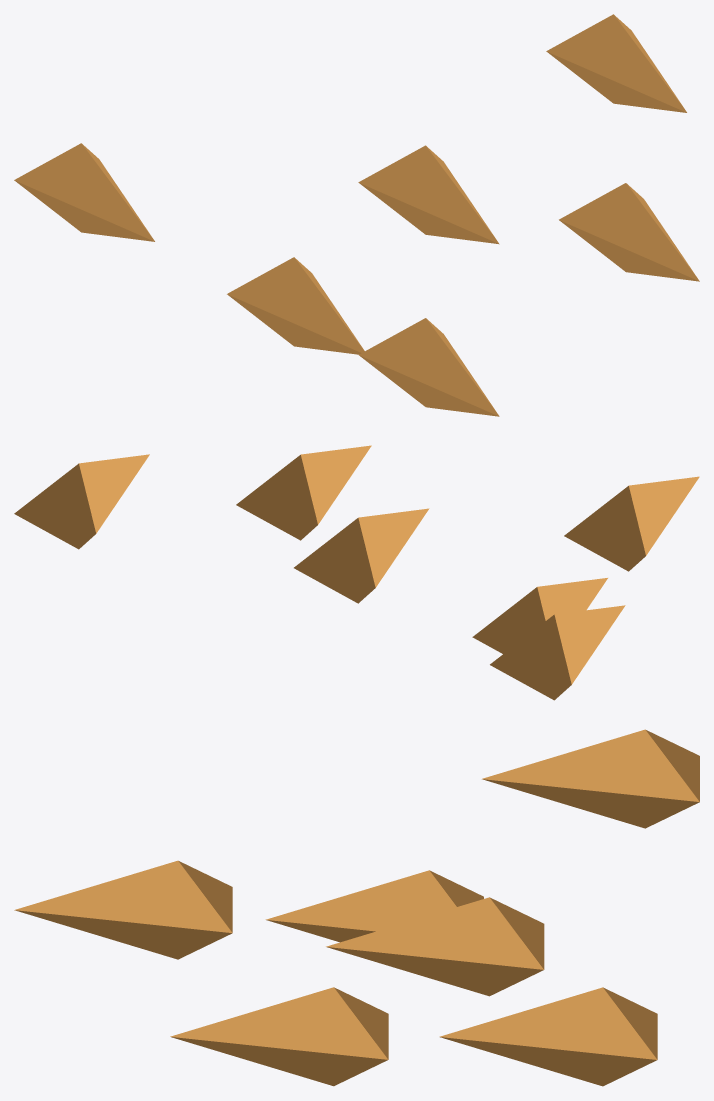
The model's file is BronzeArrowheadStack6Plus.glb.
3 views of the same model, one above another, from view 1: azimuth 30°, elevation 25°; view 2: azimuth 150°, elevation 25°; view 3: azimuth 270°, elevation 25° (orthographic). The views are drawn at different scales.
Visible parts, largest first — view 1: BronzeArrowheadStack6Plus; view 2: BronzeArrowheadStack6Plus; view 3: BronzeArrowheadStack6Plus.
Boxes of the visible parts, left/top/right/bottom form: BronzeArrowheadStack6Plus: left=14, top=14, right=699, bottom=416; BronzeArrowheadStack6Plus: left=14, top=445, right=699, bottom=700; BronzeArrowheadStack6Plus: left=14, top=729, right=699, bottom=1086.
Size of the model in its own units: 0.3541 by 0.1006 by 0.3171.
